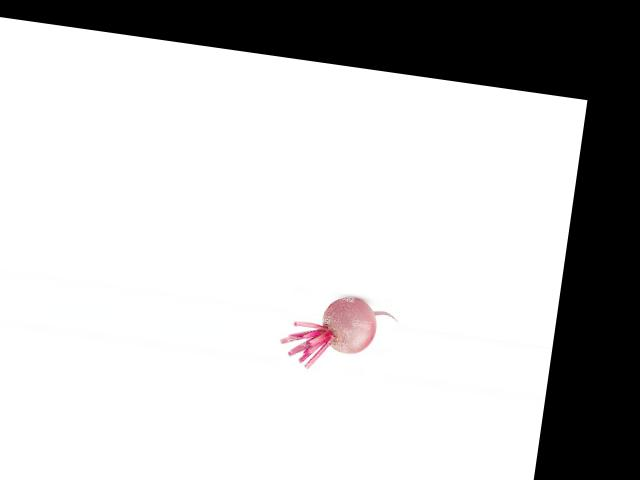beet: (276, 288, 399, 379)
